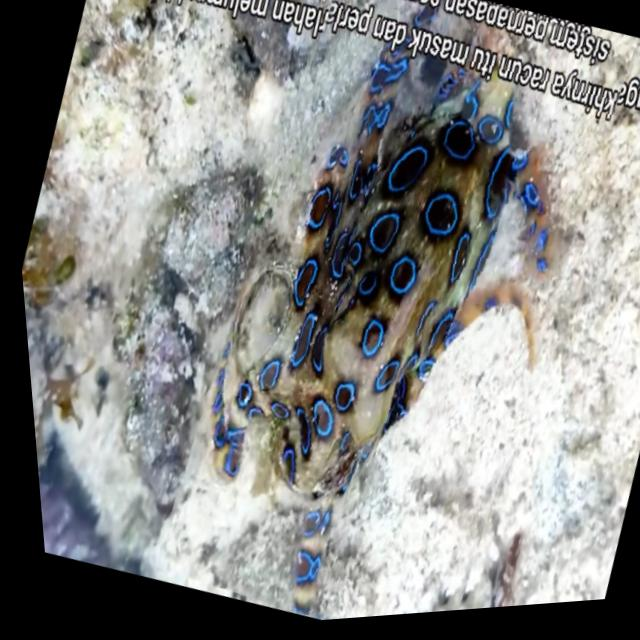blue_ringed_octopus: (114, 0, 640, 633)
